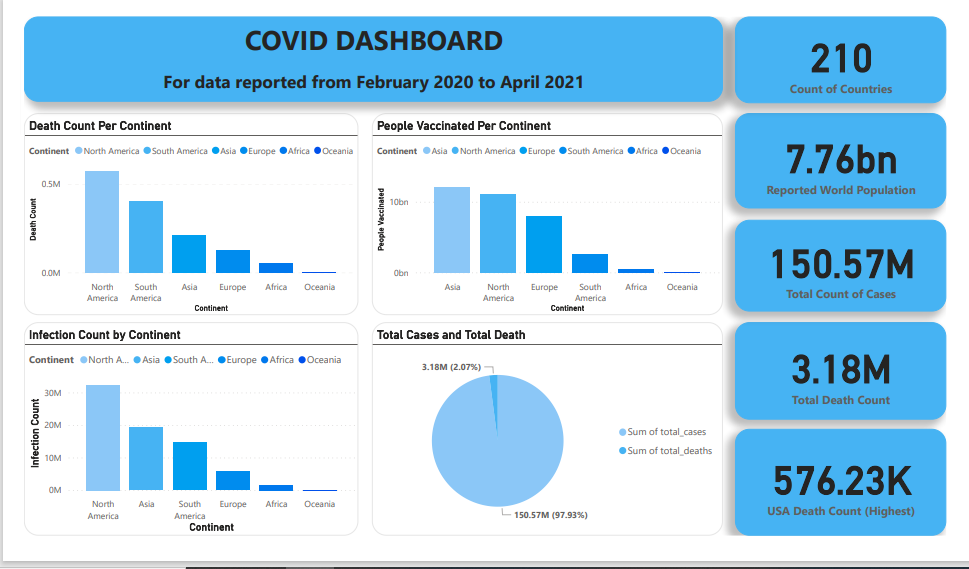

Layout of this report page (visuals, bound fields, positions):
{"tool":"powerbi","page":{"name":"Page 1","canvas":[1280,720],"ordinal":0},"visuals":[{"type":"columnChart","title":"Death Count Per Continent","fields":{"Category":["DeathCountPerContinent.continent"],"Y":["Sum(DeathCountPerContinent.TotalDeathCount)"],"Series":["DeathCountPerContinent.continent"]},"box":[0,133.8,464.5,280.2],"z":1000},{"type":"card","fields":{"Values":["Sum(DeathCountPerCountry.TotalDeathCount)"]},"box":[987.2,423.5,292.8,135.4],"z":2000},{"type":"card","fields":{"Values":["Sum(InfectionRatePerCountry.population)"]},"box":[987.2,133.8,292.8,132.3],"z":3000},{"type":"card","fields":{"Values":["CountNonNull(InfectionRatePerCountry.location)"]},"box":[987.2,0,292.8,119.7],"z":4000},{"type":"card","fields":{"Values":["Sum(worldstats.total_cases)"]},"box":[987.2,281.8,292.8,127.5],"z":5000},{"type":"card","title":"The highest death count for a country","fields":{"Values":["Max(DeathCountPerCountry.TotalDeathCount)"]},"box":[987.2,572,292.8,148],"z":6000},{"type":"columnChart","title":"People Vaccinated Per Continent","fields":{"Category":["PercentPopulationVaccinated.continent"],"Y":["Sum(PercentPopulationVaccinated.PeopleVaccinated)"],"Series":["PercentPopulationVaccinated.continent"]},"box":[483.3,133.8,486.5,280.2],"z":7000},{"type":"columnChart","title":"Infection Count by Continent","fields":{"Category":["InfectionRatePerContinent.continent"],"Y":["Sum(InfectionRatePerContinent.TotalInfectionsCount)"],"Series":["InfectionRatePerContinent.continent"]},"box":[0,423.5,464.5,296],"z":8000},{"type":"textbox","box":[0,0,969.8,118.1],"z":9000},{"type":"pieChart","title":"Total Cases and Total Death","fields":{"Y":["Sum(worldstats.total_cases)","Sum(worldstats.total_deaths)"]},"box":[483.3,423.5,486.5,296],"z":10000}]}

Visuals, with their boxes in screenshot pixels (x1, y1, x2, y2):
"Death Count Per Continent" columnChart: [left=23, top=139, right=357, bottom=341]
card - Sum(DeathCountPerCountry.TotalDeathCount): [left=734, top=348, right=944, bottom=445]
card - Sum(InfectionRatePerCountry.population): [left=734, top=139, right=944, bottom=235]
card - CountNonNull(InfectionRatePerCountry.location): [left=734, top=43, right=944, bottom=129]
card - Sum(worldstats.total_cases): [left=734, top=246, right=944, bottom=338]
"The highest death count for a country" card: [left=734, top=455, right=944, bottom=561]
"People Vaccinated Per Continent" columnChart: [left=371, top=139, right=721, bottom=341]
"Infection Count by Continent" columnChart: [left=23, top=348, right=357, bottom=561]
textbox: [left=23, top=43, right=721, bottom=128]
"Total Cases and Total Death" pieChart: [left=371, top=348, right=721, bottom=561]
